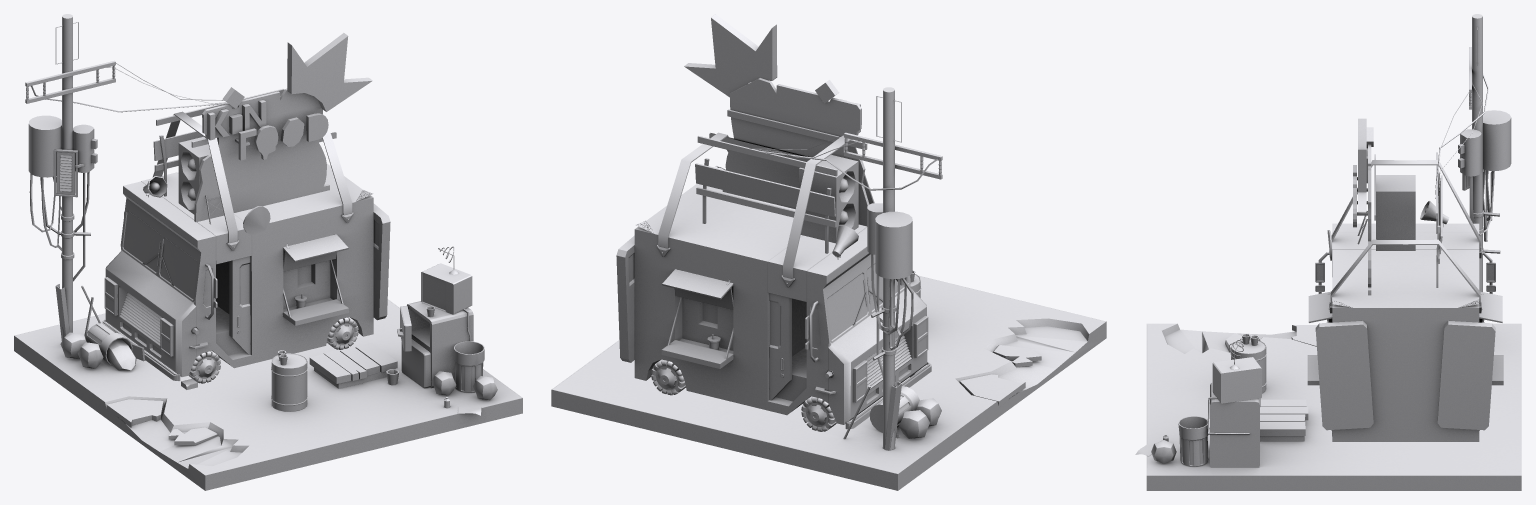
File: HouseCar2_BodyPaint_Befor.obj
The picture shows the model from 3 angles, left to right: view 1: azimuth 30°, elevation 25°; view 2: azimuth 150°, elevation 25°; view 3: azimuth 270°, elevation 25°; orthographic projection. The views are drawn at different scales.
Parts seen in each view (by area): view 1: Box001, object 3, object 1; view 2: object 3, Box001, object 1; view 3: Box001, object 3, object 1.
Boxes of the visible parts, x1,y1,x2,y2 form: Box001: (14, 14, 522, 490); object 3: (101, 111, 390, 383); object 1: (131, 33, 372, 389); object 3: (616, 132, 931, 431); Box001: (551, 87, 1106, 490); object 1: (684, 14, 920, 387); Box001: (1135, 14, 1521, 490); object 3: (1307, 160, 1503, 441); object 1: (1327, 118, 1448, 295).
Size of the model in its own units: 509 by 505 by 523.
